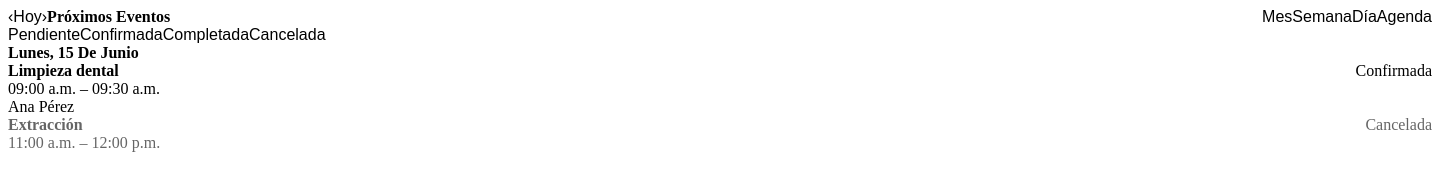
Test case: BipCalendar › muestra el mensaje de "sin eventos filtrados" cuando todos los filtros se desactivan
Click the checkbox labelled "Pendiente": (44, 35) [8, 26, 80, 44]
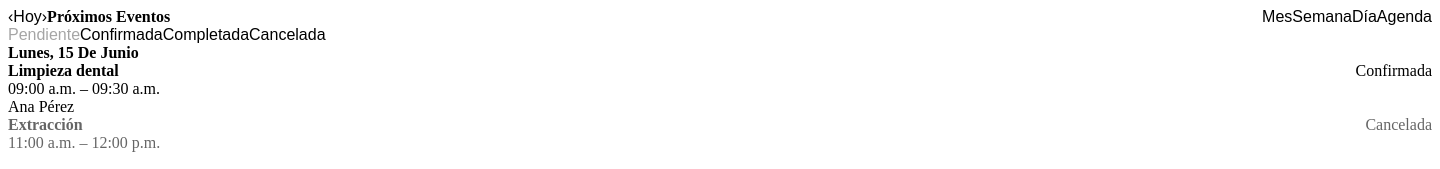
Click the checkbox labelled "Confirmada": (121, 35) [80, 26, 163, 44]
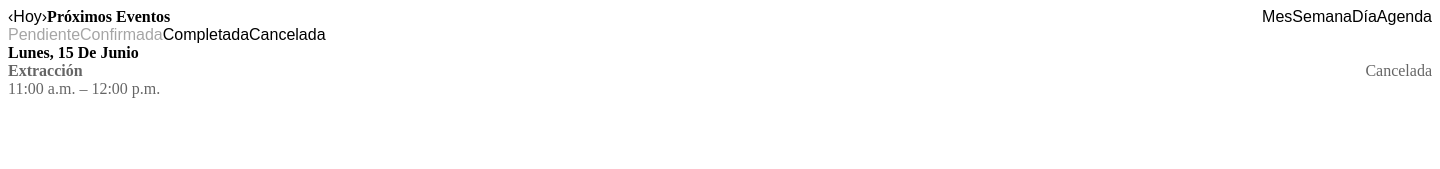
Click the checkbox labelled "Completada": (206, 35) [163, 26, 249, 44]
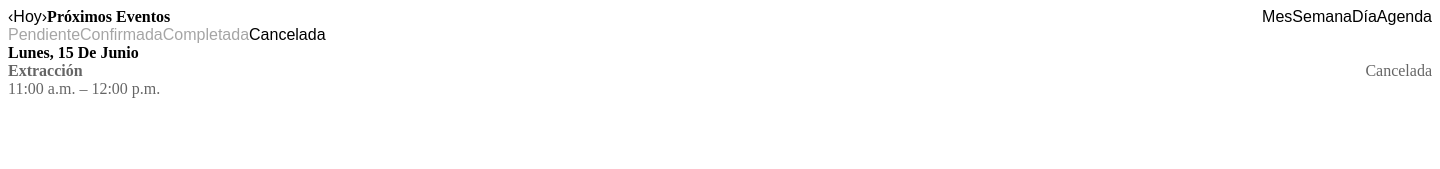
Click the checkbox labelled "Cancelada": (287, 35) [249, 26, 326, 44]
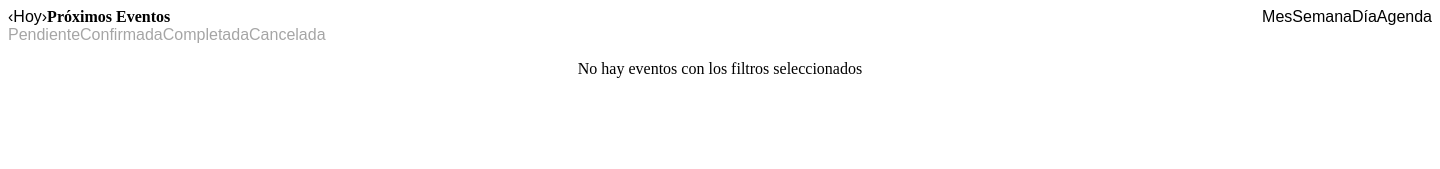
Expected: the text "No hay eventos con los filtros seleccionados" is shown, [578, 60, 862, 77]
